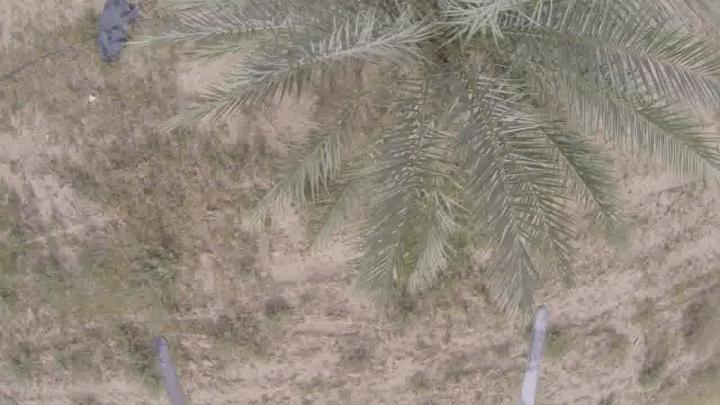Date-Palm-Crown: (357, 1, 629, 146)
